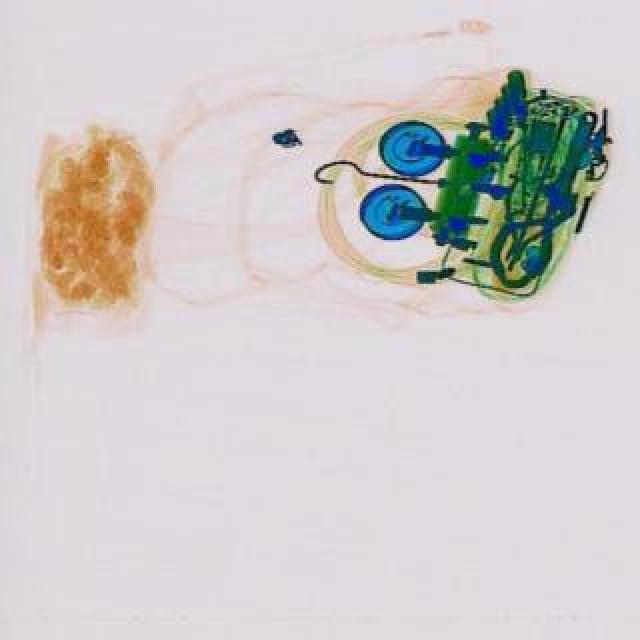scissors: (536, 110, 604, 228)
wrench: (480, 176, 576, 278)
